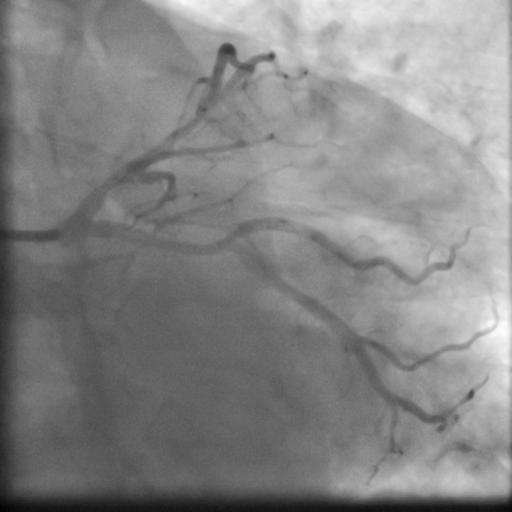Stenosis: (93, 168, 129, 196)
